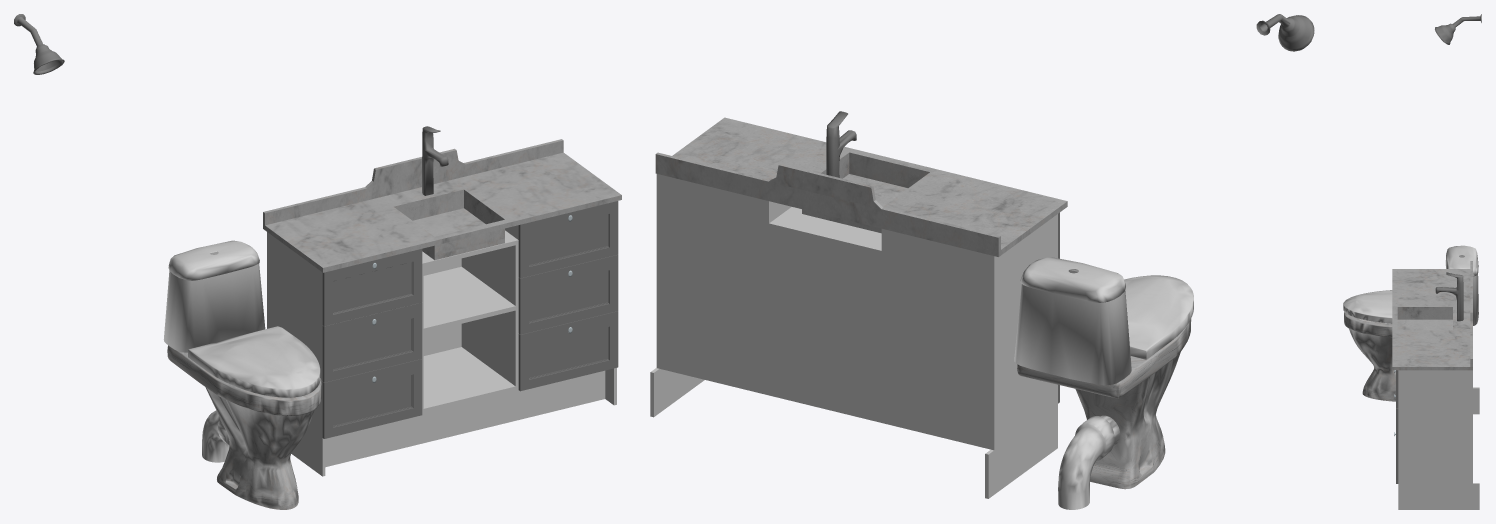
The model's file is bano.obj.
3 renders of one model, left to right at view 1: azimuth 30°, elevation 25°; view 2: azimuth 150°, elevation 25°; view 3: azimuth 270°, elevation 25°, orthographic. The views are drawn at different scales.
Parts seen in each view (by area): view 1: Countertop1_Countertop1.001, Cabinet2, Bowl, Baseboard1_Baseboard1.001, Tank, Lid, Drawer.001_Drawer.002, Drawer.004_Drawer.002, Drawer.003_Drawer.002, Drawer_Drawer.002, Drawer.005_Drawer.002, Drawer.002 (+5 smaller); view 2: Cabinet1_Cabinet1.001, Countertop1_Countertop1.001, Cabinet3, Cabinet2, Tank, Bowl, Baseboard1_Baseboard1.001, Lid, Drainage_Tube, Tank_cover, Circle_Circle.001, Cube_Cube.001; view 3: Cabinet3, Countertop1_Countertop1.001, Bowl, Baseboard1_Baseboard1.001, Lid, Tank_cover, Cube_Cube.001, Circle_Circle.001, Tank.
Boxes of the visible parts, x1,y1,x2,y2 form: Countertop1_Countertop1.001: (263,139,621,272); Cabinet2: (422,230,518,413); Bowl: (167,345,321,509); Baseboard1_Baseboard1.001: (291,368,616,476); Tank: (163,251,265,352); Lid: (188,326,320,397); Drawer.001_Drawer.002: (322,302,422,382); Drawer.004_Drawer.002: (518,254,618,334); Drawer.003_Drawer.002: (518,311,618,391); Drawer_Drawer.002: (322,359,422,438); Drawer.005_Drawer.002: (518,201,618,278); Drawer.002: (322,249,422,326); Cabinet1_Cabinet1.001: (881,214,1057,450); Countertop1_Countertop1.001: (655,117,1067,256); Cabinet3: (656,174,791,395); Cabinet2: (769,207,881,422); Tank: (1014,270,1131,385); Bowl: (1017,318,1191,489); Baseboard1_Baseboard1.001: (650,368,1057,498); Lid: (1124,275,1193,359); Drainage_Tube: (1058,415,1119,509); Tank_cover: (1020,257,1125,302); Circle_Circle.001: (1256,14,1314,51); Cube_Cube.001: (826,111,856,177); Cabinet3: (1398,370,1472,483); Countertop1_Countertop1.001: (1392,261,1472,370); Bowl: (1344,312,1395,401); Baseboard1_Baseboard1.001: (1398,387,1479,509); Lid: (1343,290,1392,323); Tank_cover: (1445,245,1478,276); Cube_Cube.001: (1435,272,1463,321); Circle_Circle.001: (1435,14,1481,44); Tank: (1459,255,1478,325).
Bounding box in the file's own units: 2.38 × 1.97 × 0.7725.
